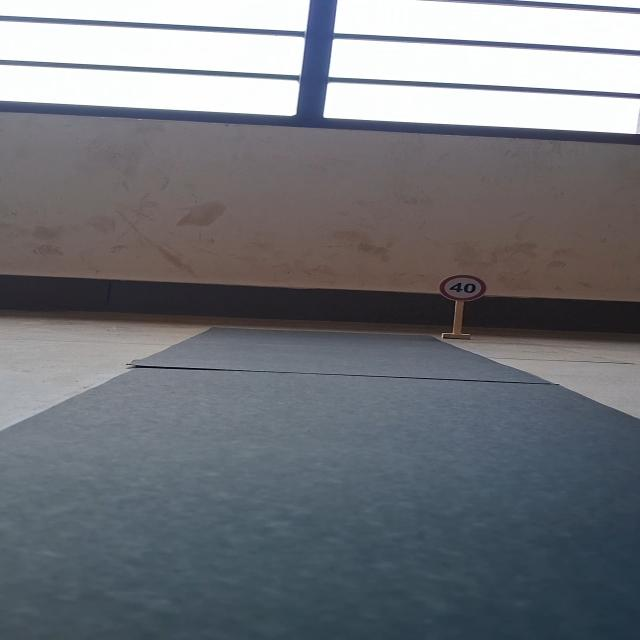Speed40: (435, 270, 492, 304)
